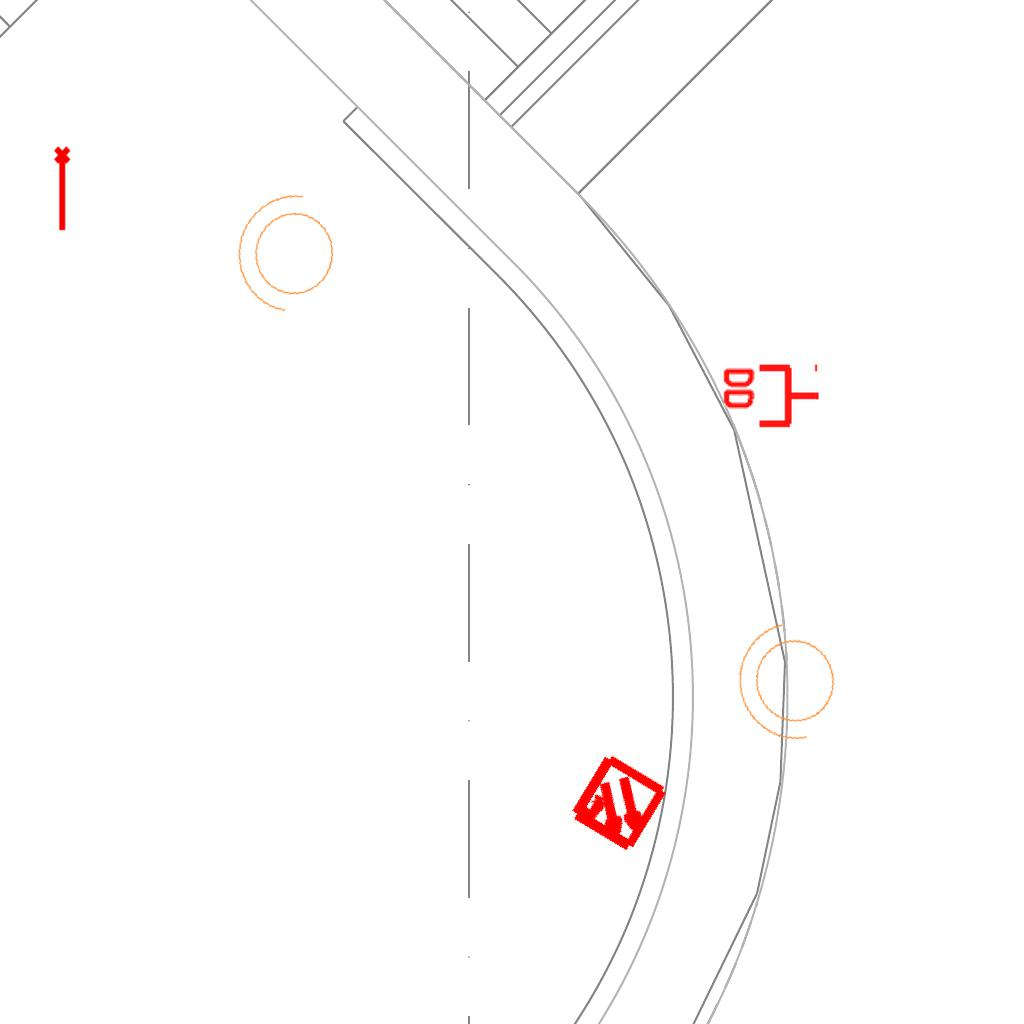ASR_Ansaugoeffnung: (52, 145, 75, 233)
Datenanschluss_zweifach: (719, 363, 822, 432)
OT_Multisensormelder_(Kombination_RMO_WMD): (539, 726, 696, 883)
Scheinwerfer_fuer_Alarmbeleuchtung: (722, 608, 860, 762), (223, 182, 355, 330)
